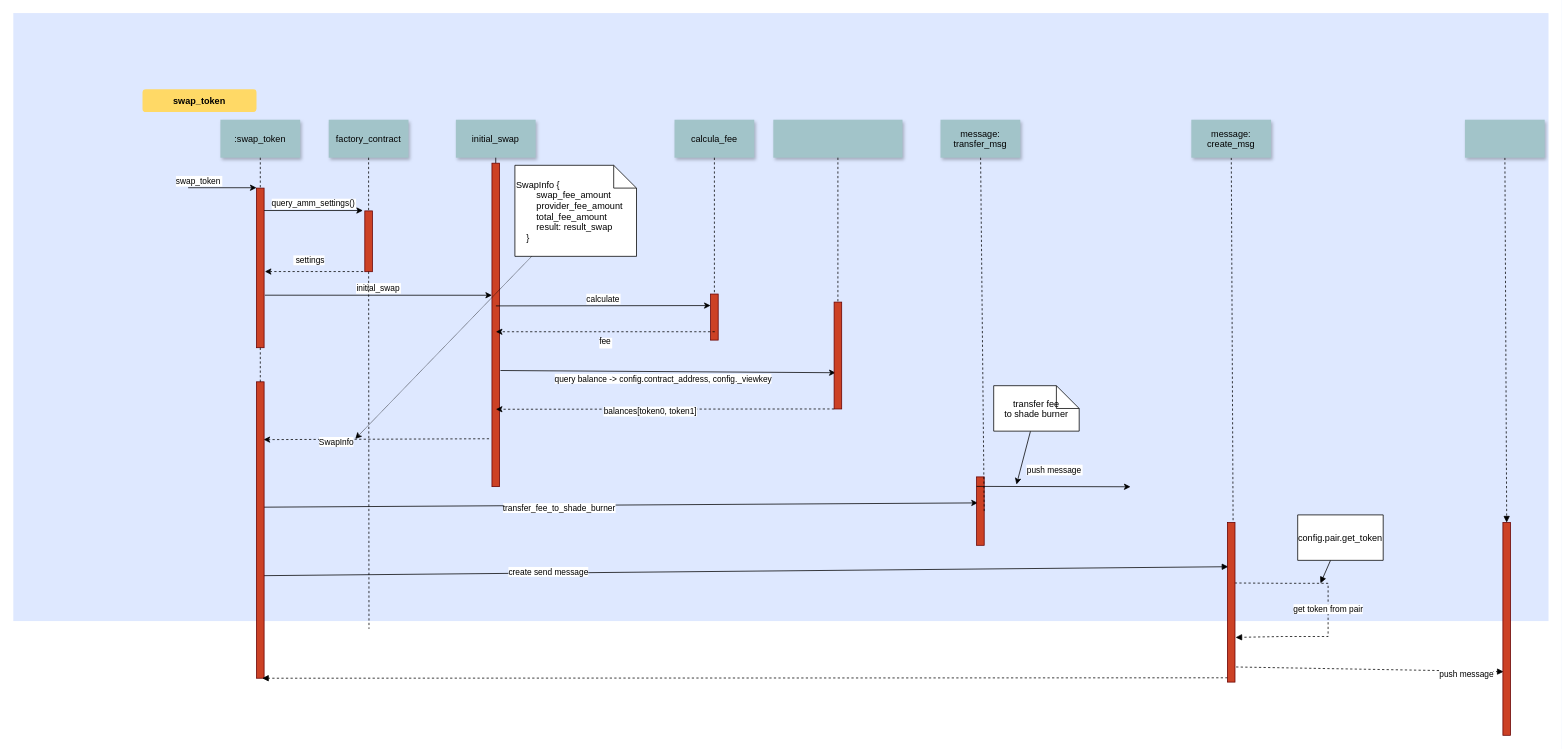
This 1562x749 diagram has some shape labels left out. Each missing label, with the centre of its shape:
query_balance_token_pair: [838,139]
snip20 contract HandleMsg:Send: [1505,139]
